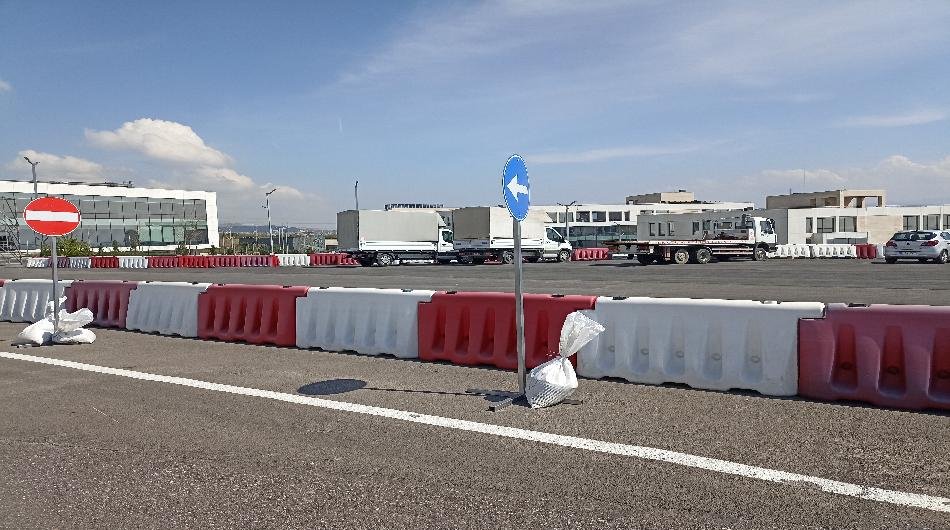girilmez: (21, 195, 82, 237)
sola_mecburi_1: (500, 153, 532, 223)
